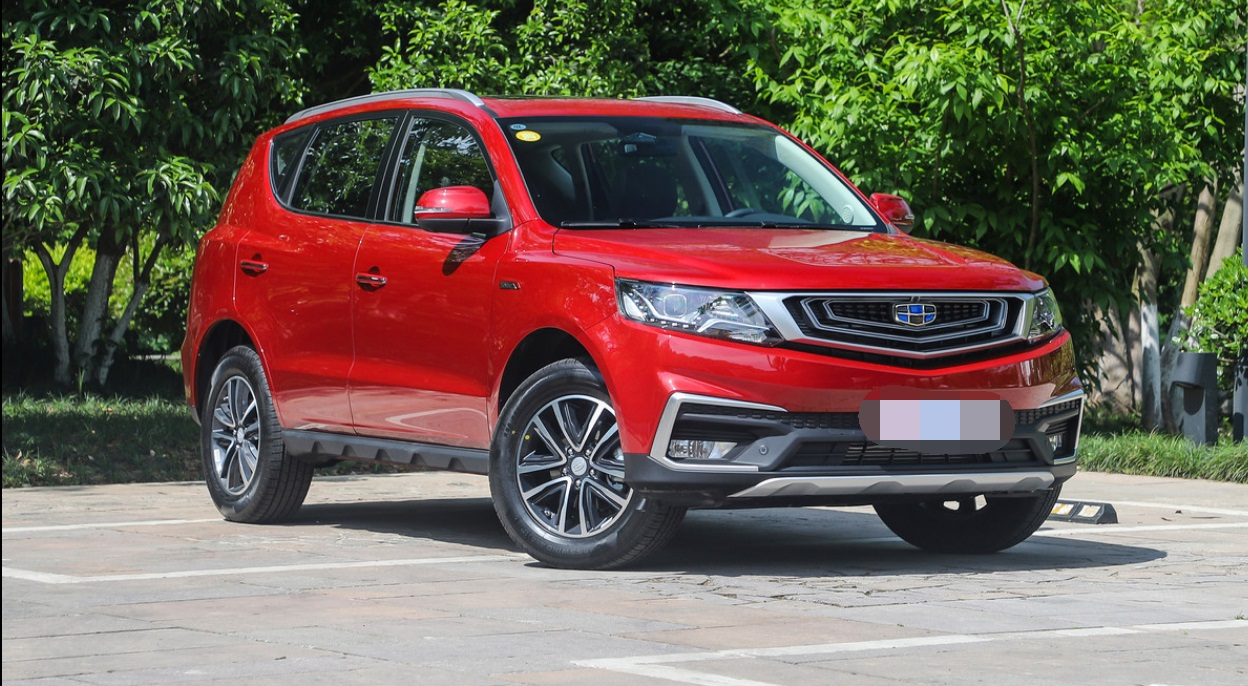SUV: (181, 87, 1091, 559)
